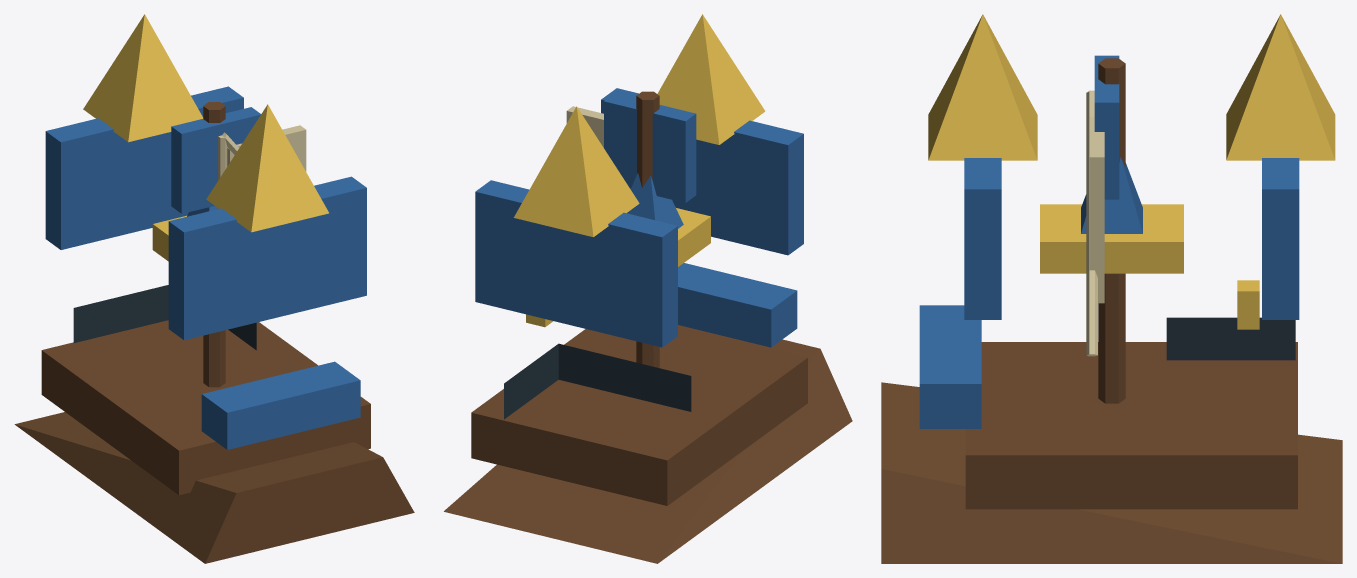
Rendered from legendary-warship.obj.
3 renders of one model, left to right at view 1: azimuth 30°, elevation 25°; view 2: azimuth 150°, elevation 25°; view 3: azimuth 270°, elevation 25°, orthographic. The views are drawn at different scales.
Visible parts, largest first — view 1: ship; view 2: ship; view 3: ship.
Boxes of the visible parts, x1,y1,x2,y2 form: ship: (14, 14, 414, 563); ship: (444, 14, 852, 563); ship: (881, 14, 1342, 563).
Bounding box in the file's own units: 1.27 × 2.17 × 1.86.
